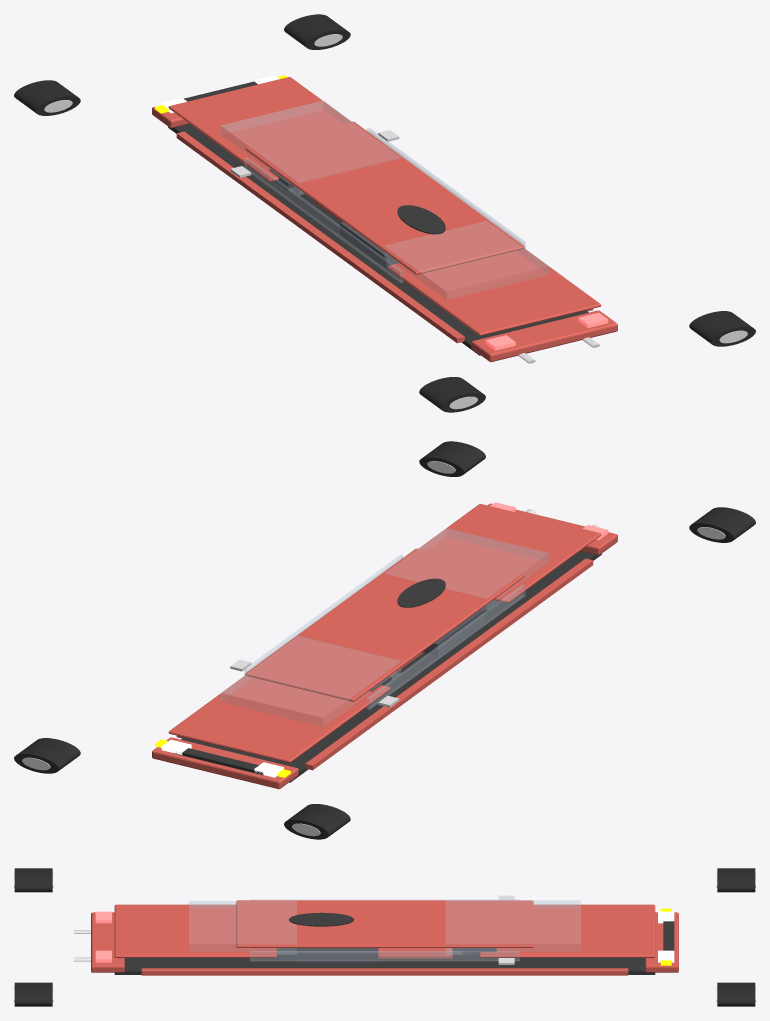
File: sport.glb
3 views of the same model, one above another, from view 1: azimuth 30°, elevation 25°; view 2: azimuth 150°, elevation 25°; view 3: azimuth 270°, elevation 25° (orthographic). The views are drawn at different scales.
Parts seen in each view (by area): view 1: Roof, Trunk, Glass, Hood, RearGlass, Chassis, Skirt_L, Bumper_R, SideGlass_L, Wheel_FR, Wheel_FL, Wheel_RR (+4 smaller); view 2: Roof, Hood, Glass, Trunk, RearGlass, Chassis, Skirt_L, Bumper_F, SideGlass_L, Wheel_RR, Wheel_RL, Wheel_FR (+6 smaller); view 3: Roof, Hood, Trunk, Glass, Chassis, RearGlass, Skirt_R, SideGlass_R, Seat_R, Bumper_R, Wheel_FL, Wheel_FR (+8 smaller).
Boxes of the visible parts, x1,y1,x2,y2 form: Roof: [245, 121, 524, 274]; Trunk: [387, 248, 601, 335]; Glass: [221, 101, 400, 194]; Hood: [168, 77, 351, 181]; RearGlass: [384, 221, 548, 299]; Chassis: [168, 123, 588, 355]; Skirt_L: [176, 131, 464, 343]; Bumper_R: [471, 310, 617, 362]; SideGlass_L: [244, 157, 402, 282]; Wheel_FR: [284, 14, 350, 49]; Wheel_FL: [14, 80, 80, 115]; Wheel_RR: [689, 311, 755, 346]; Roof: [245, 548, 524, 701]; Hood: [168, 675, 390, 762]; Glass: [221, 636, 400, 726]; Trunk: [418, 504, 601, 603]; RearGlass: [384, 528, 548, 609]; Chassis: [181, 550, 601, 782]; Skirt_L: [305, 558, 593, 770]; Bumper_F: [152, 737, 298, 789]; SideGlass_L: [367, 584, 525, 709]; Wheel_RR: [419, 441, 485, 476]; Wheel_RL: [689, 507, 755, 542]; Wheel_FR: [14, 738, 80, 773]; Roof: [236, 900, 533, 947]; Hood: [479, 904, 655, 957]; Trunk: [114, 904, 276, 957]; Glass: [446, 900, 580, 954]; Chassis: [114, 948, 655, 974]; RearGlass: [189, 901, 296, 954]; Skirt_R: [141, 968, 628, 975]; SideGlass_R: [250, 951, 519, 960]; Seat_R: [297, 948, 378, 963]; Bumper_R: [91, 912, 124, 972]; Wheel_FL: [717, 868, 755, 892]; Wheel_FR: [717, 982, 755, 1006].
Size of the model in its own units: 9.8 by 1.46 by 23.06.
